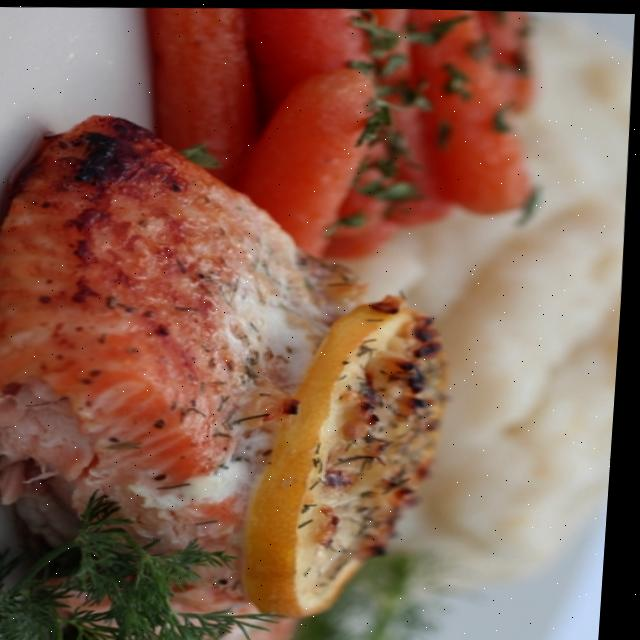熟制海鲜: (0, 7, 640, 640)
